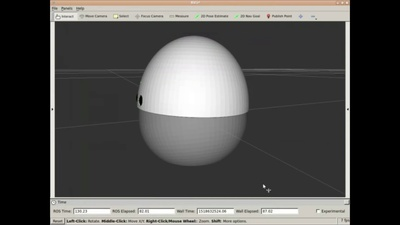mira_robot: (137, 35, 249, 166)
